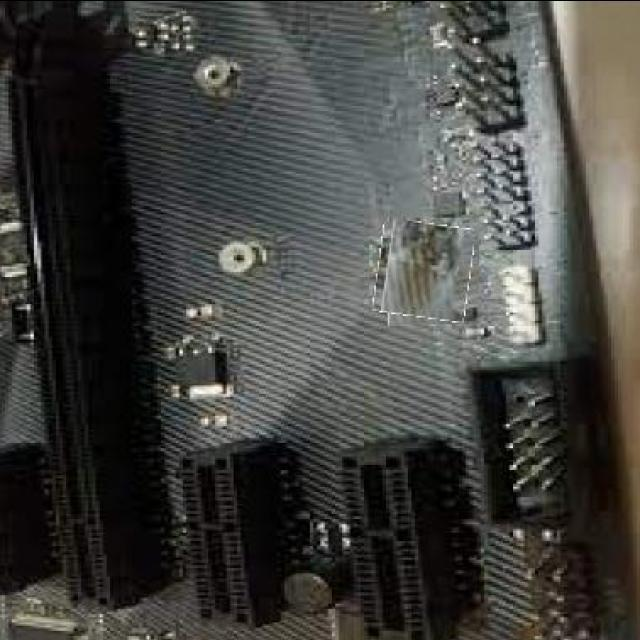Burn: (376, 221, 474, 319)
